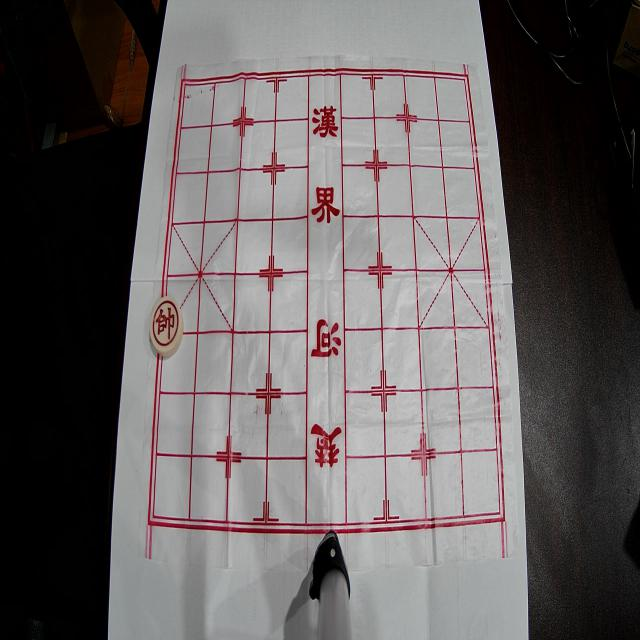red-general: (150, 296, 183, 356)
